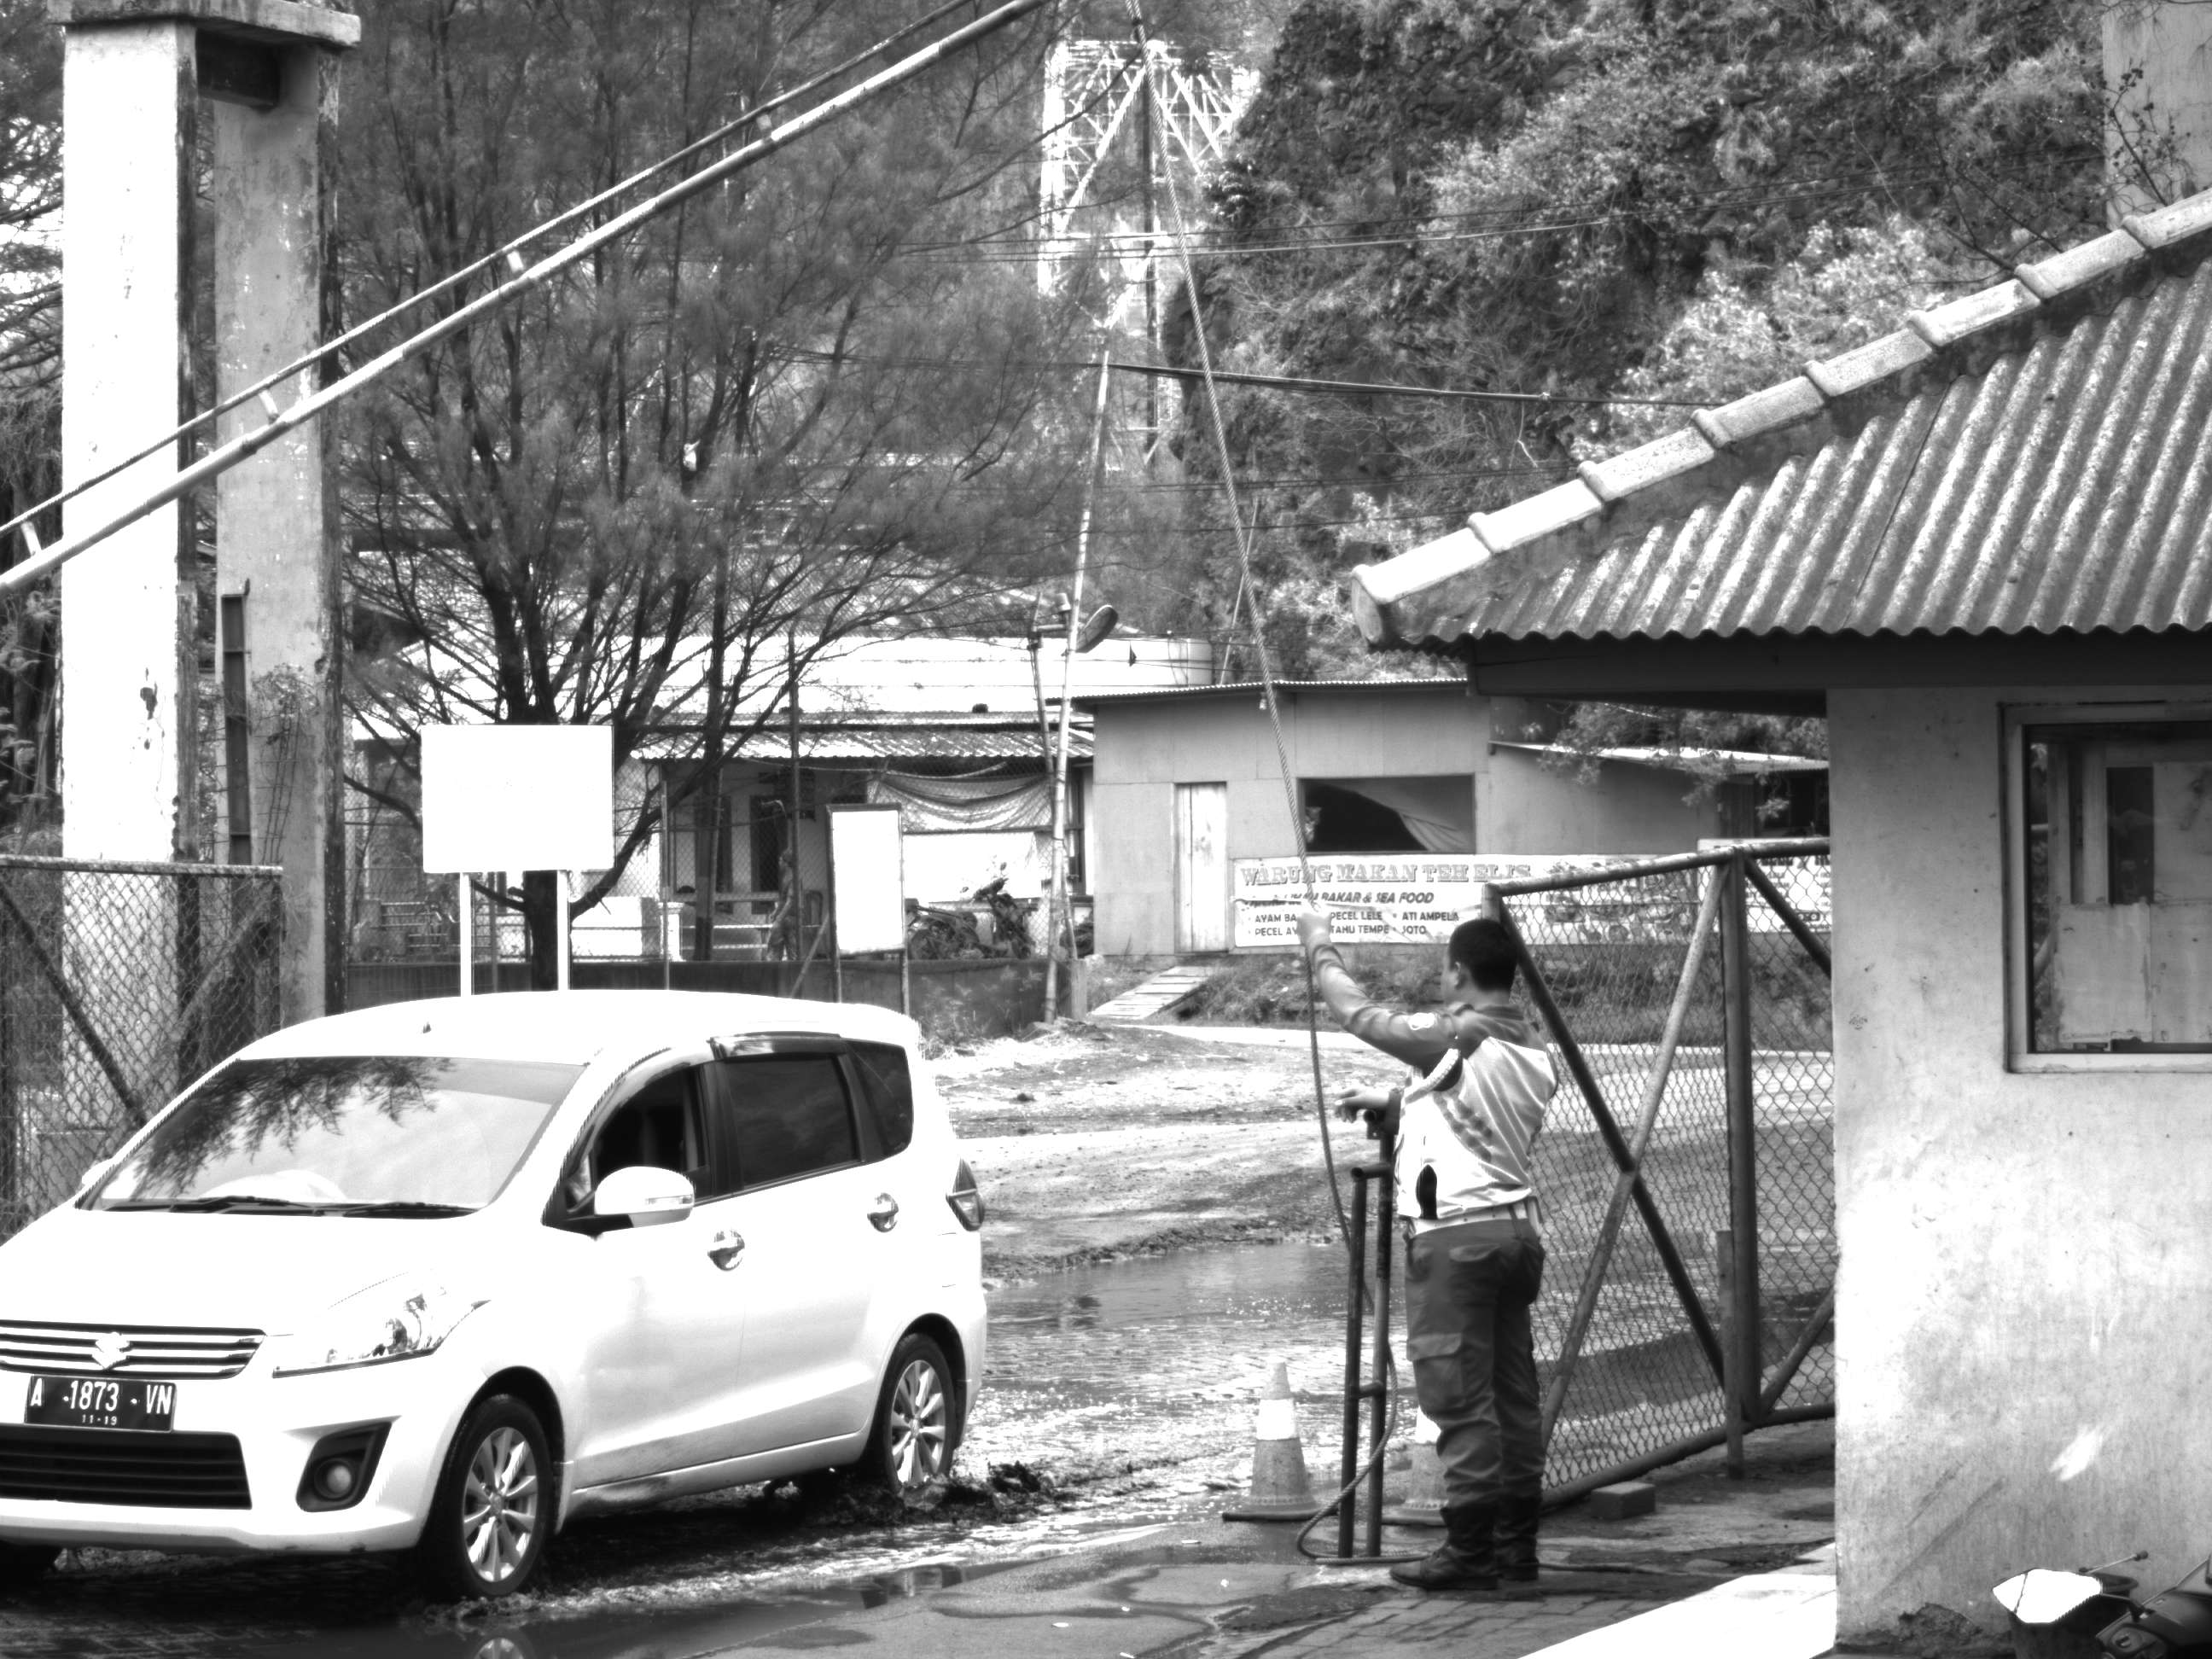day_small_front: (4, 1003, 603, 1607)
plate: (26, 1364, 178, 1424)
